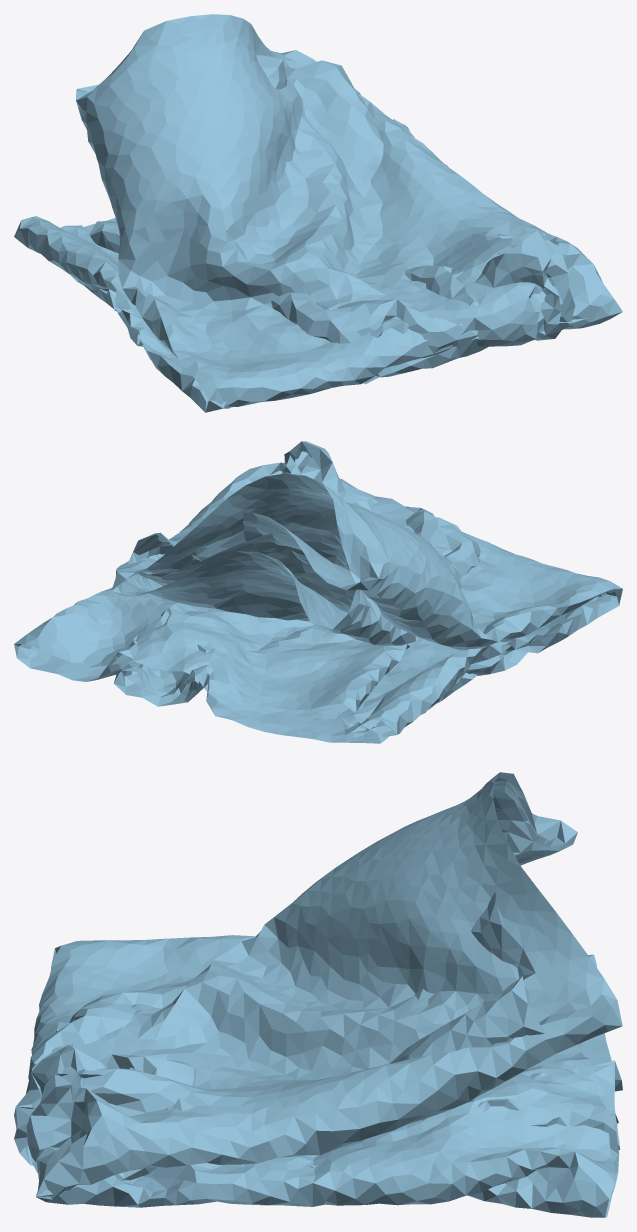
Rendered from frame_19.glb.
3 renders of one model, top to bottom at view 1: azimuth 30°, elevation 25°; view 2: azimuth 150°, elevation 25°; view 3: azimuth 270°, elevation 25°, orthographic. The views are drawn at different scales.
Visible parts, largest first — view 1: frame_19.obj; view 2: frame_19.obj; view 3: frame_19.obj.
Boxes of the visible parts, left/top/right/bottom form: frame_19.obj: left=14, top=14, right=622, bottom=412; frame_19.obj: left=14, top=441, right=622, bottom=743; frame_19.obj: left=14, top=772, right=622, bottom=1217.
Bounding box in the file's own units: 0.8892 × 0.4805 × 0.9003.
